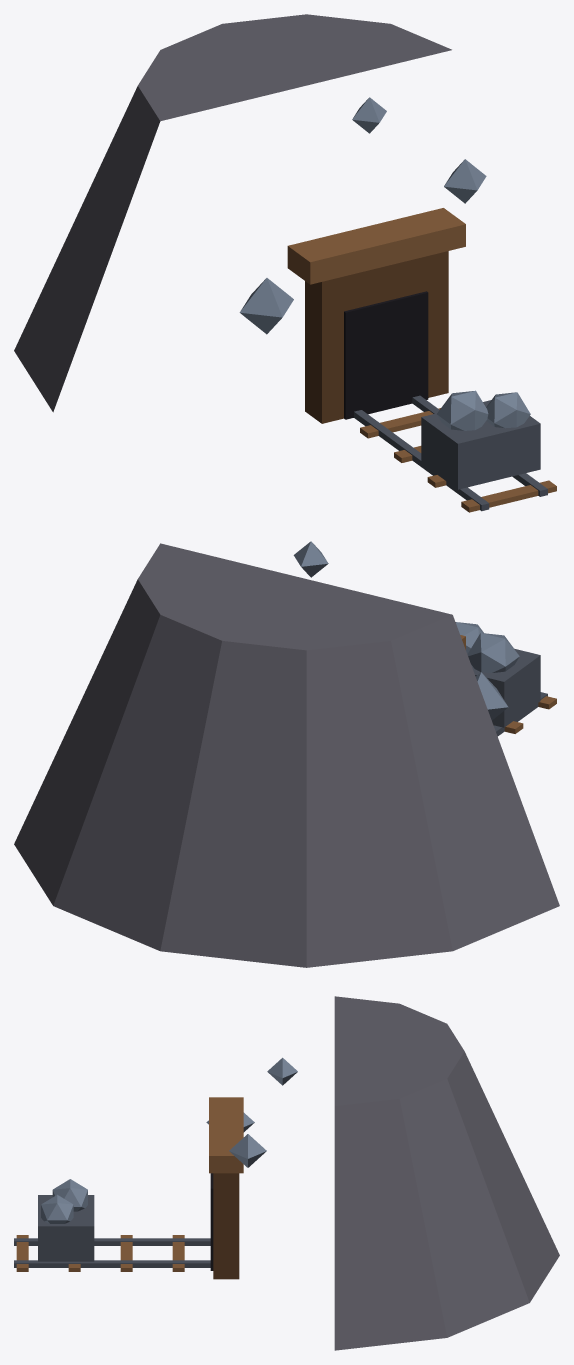
The model's file is iron-mine.glb.
3 views of the same model, one above another, from view 1: azimuth 30°, elevation 25°; view 2: azimuth 150°, elevation 25°; view 3: azimuth 270°, elevation 25° (orthographic). The views are drawn at different scales.
Parts seen in each view (by area): view 1: iron_mine; view 2: iron_mine; view 3: iron_mine.
Part boxes in pixels (bbox=[...]): iron_mine: bbox=[14, 14, 556, 512]; iron_mine: bbox=[14, 541, 559, 967]; iron_mine: bbox=[14, 996, 559, 1350].
Bounding box in the file's own units: 0.52 × 0.266 × 0.63.
